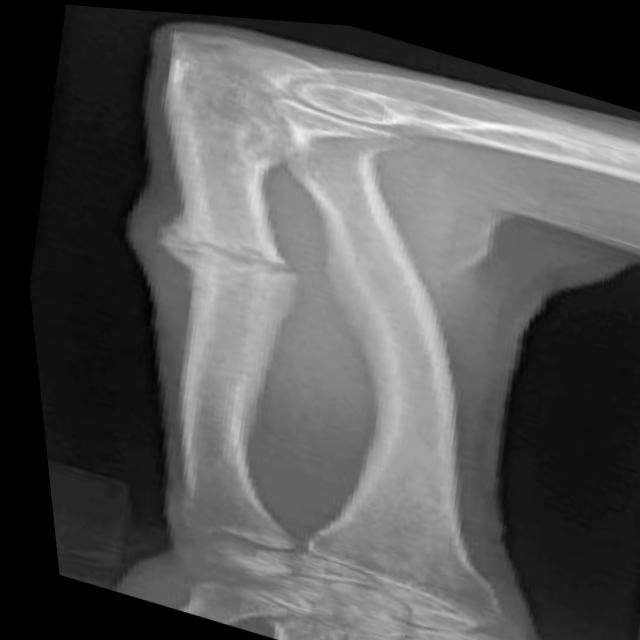fracture: (136, 210, 320, 294)
